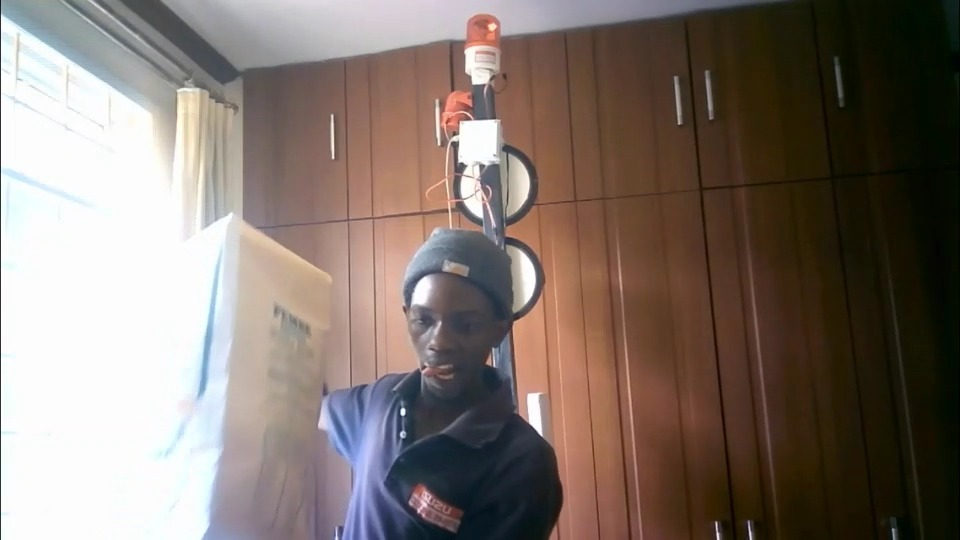maize_flour_green_label: (140, 218, 330, 536)
